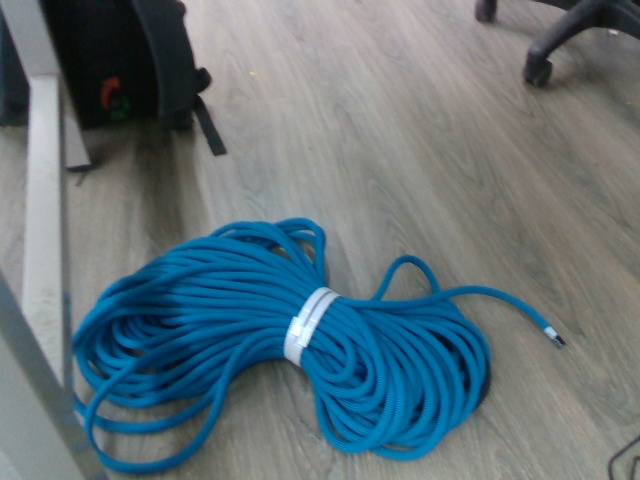rope: (56, 214, 574, 478)
